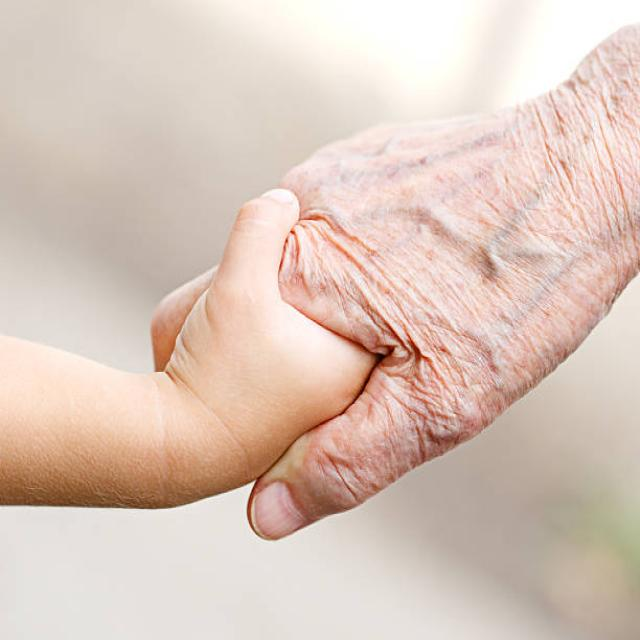Dry-Skin: (320, 114, 607, 351)
